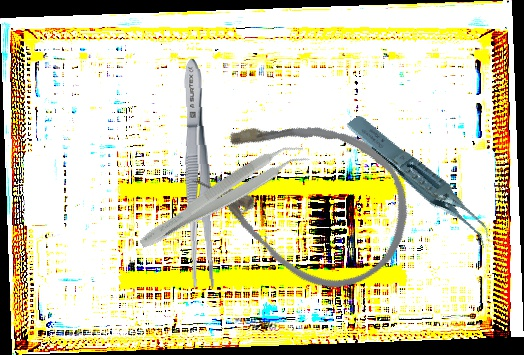Cannula: (173, 79, 434, 312)
Dressing Forceps: (176, 57, 220, 291)
Tissue Forceps: (345, 92, 495, 273), (134, 133, 312, 262)
